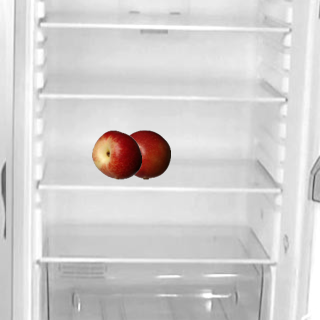Apple Braeburn: (120, 129, 170, 179)
Nectarine: (91, 129, 141, 179)
